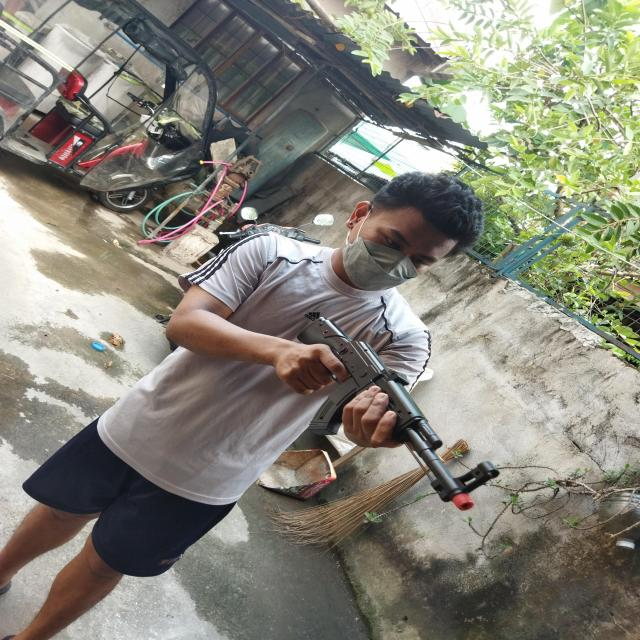rifle: (298, 317, 499, 510)
